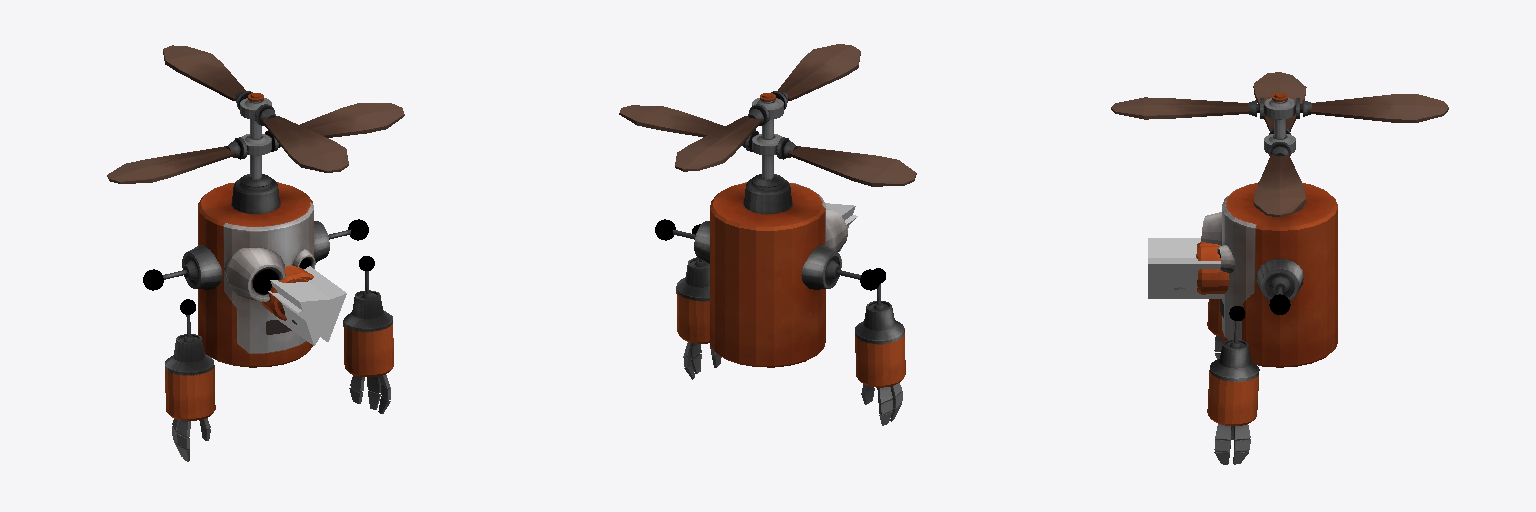
3 views of the same model, side by side, from view 1: azimuth 30°, elevation 25°; view 2: azimuth 150°, elevation 25°; view 3: azimuth 270°, elevation 25° (orthographic).
Visible parts, largest first — view 1: Head, Propeller, BodyArms, HandRightCol, HandLeftCol; view 2: Head, Propeller, BodyArms; view 3: Head, Propeller, BodyArms, HandRightCol, HandRight, HandLeftCol.
Part boxes in pixels (bbox=[...]): Head: bbox=[143, 174, 368, 367]; Propeller: bbox=[107, 45, 404, 183]; BodyArms: bbox=[165, 256, 393, 461]; HandRightCol: bbox=[268, 266, 346, 341]; HandLeftCol: bbox=[270, 280, 330, 345]; Head: bbox=[655, 174, 880, 367]; Propeller: bbox=[619, 44, 916, 186]; BodyArms: bbox=[676, 224, 905, 425]; Head: bbox=[1201, 182, 1337, 367]; Propeller: bbox=[1111, 72, 1448, 216]; BodyArms: bbox=[1207, 299, 1259, 464]; HandRightCol: bbox=[1148, 258, 1222, 298]; HandRight: bbox=[1174, 246, 1229, 294]; HandLeftCol: bbox=[1148, 238, 1200, 257].
Size of the model in its own units: 0.5933 by 0.625 by 0.5933.
2 materials, 1 textured.